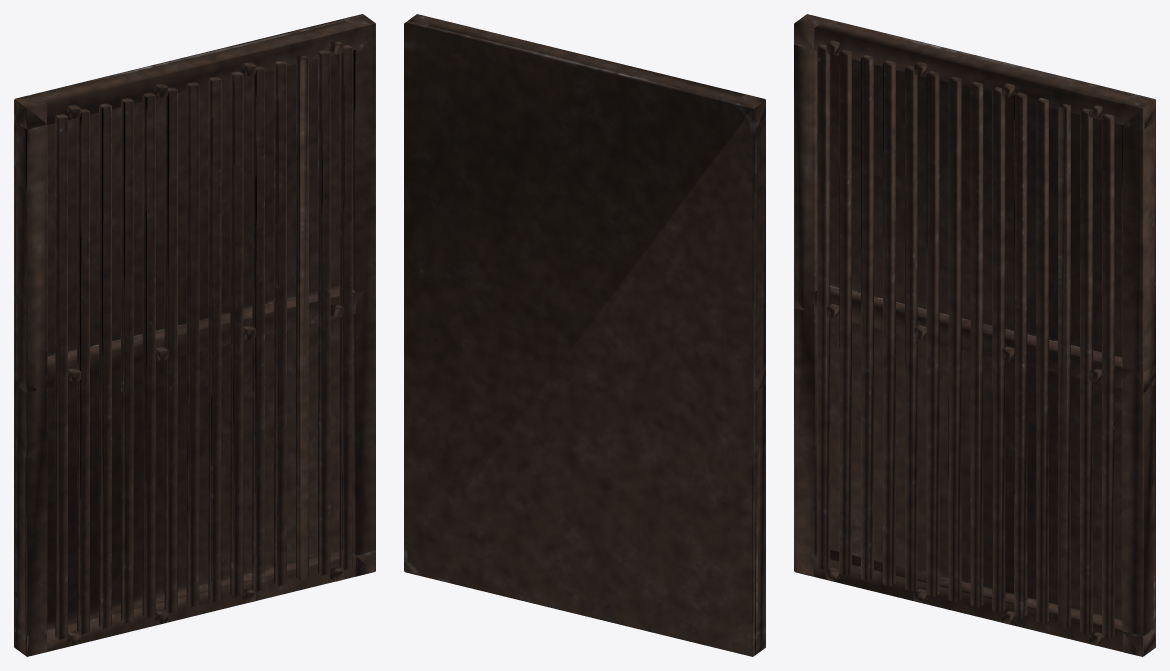
File: Galpon_Pared.fbx
3 views of the same model, side by side, from view 1: azimuth 30°, elevation 25°; view 2: azimuth 150°, elevation 25°; view 3: azimuth 330°, elevation 25° (orthographic).
Visible parts, largest first — view 1: Galpon_Pared; view 2: Galpon_Pared; view 3: Galpon_Pared.
Part boxes in pixels (x1=…): Galpon_Pared: x1=14, y1=14, x2=375, y2=656; Galpon_Pared: x1=404, y1=14, x2=765, y2=656; Galpon_Pared: x1=794, y1=14, x2=1155, y2=656.
Size of the model in its own units: 8 by 12 by 0.785.
